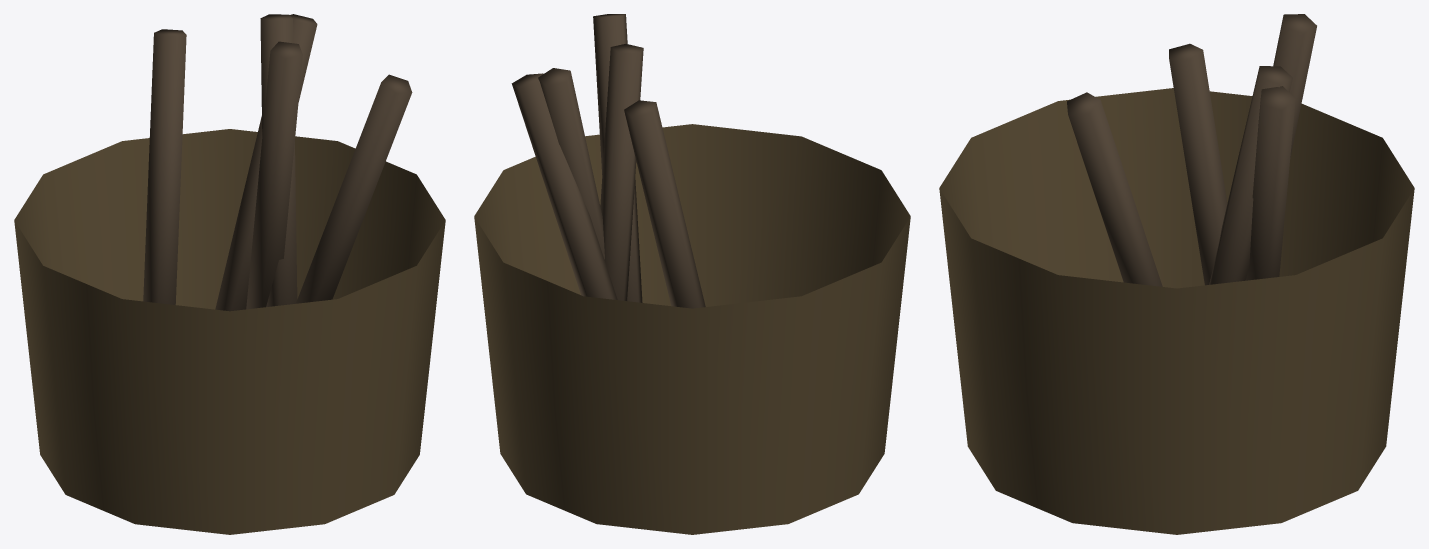
Rendered from kindling_basket.glb.
The picture shows the model from 3 angles, left to right: view 1: azimuth 30°, elevation 25°; view 2: azimuth 150°, elevation 25°; view 3: azimuth 270°, elevation 25°; orthographic projection. The views are drawn at different scales.
Parts seen in each view (by area): view 1: kindling_basket; view 2: kindling_basket; view 3: kindling_basket.
Boxes of the visible parts, x1,y1,x2,y2 form: kindling_basket: (14,14,445,534); kindling_basket: (474,14,910,534); kindling_basket: (939,14,1414,534).
Bounding box in the file's own units: 0.5 × 0.4983 × 0.5.
